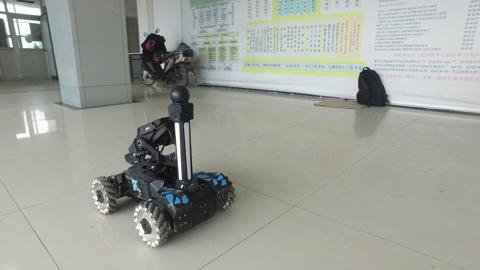bag: (344, 56, 398, 114)
chariot: (87, 81, 243, 246)
